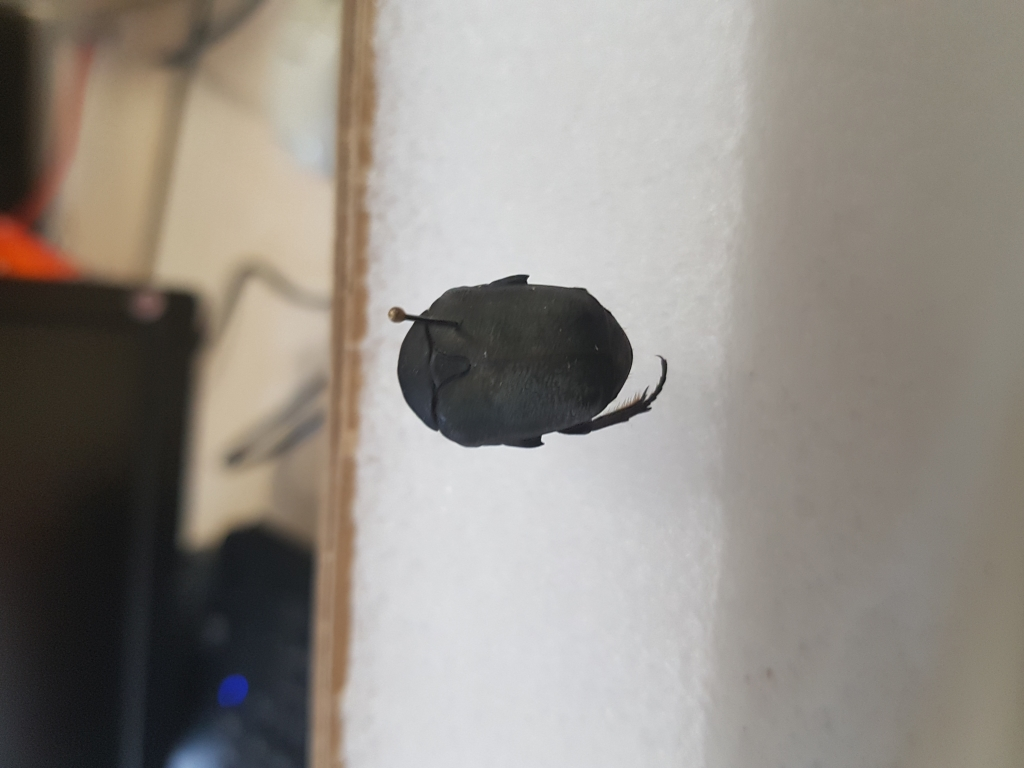Protaetia_afflicta: (387, 271, 675, 458)
